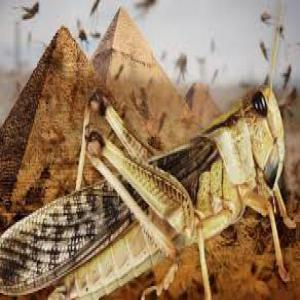locust: (14, 76, 284, 299)
